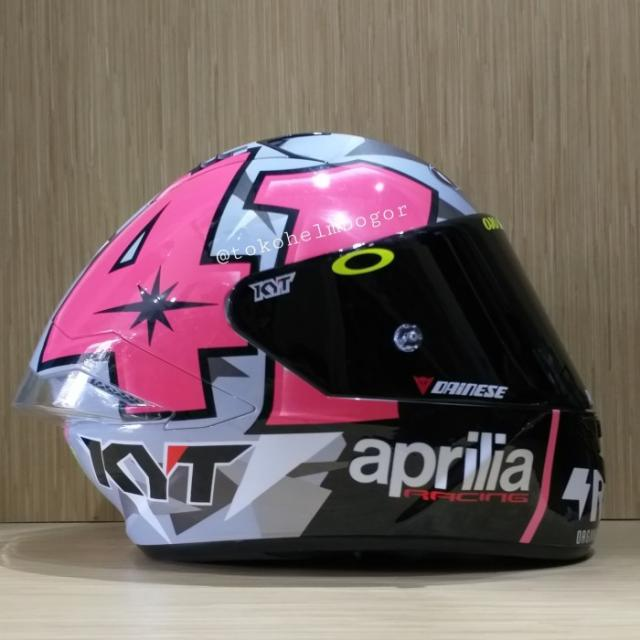Helm: (9, 126, 605, 567)
